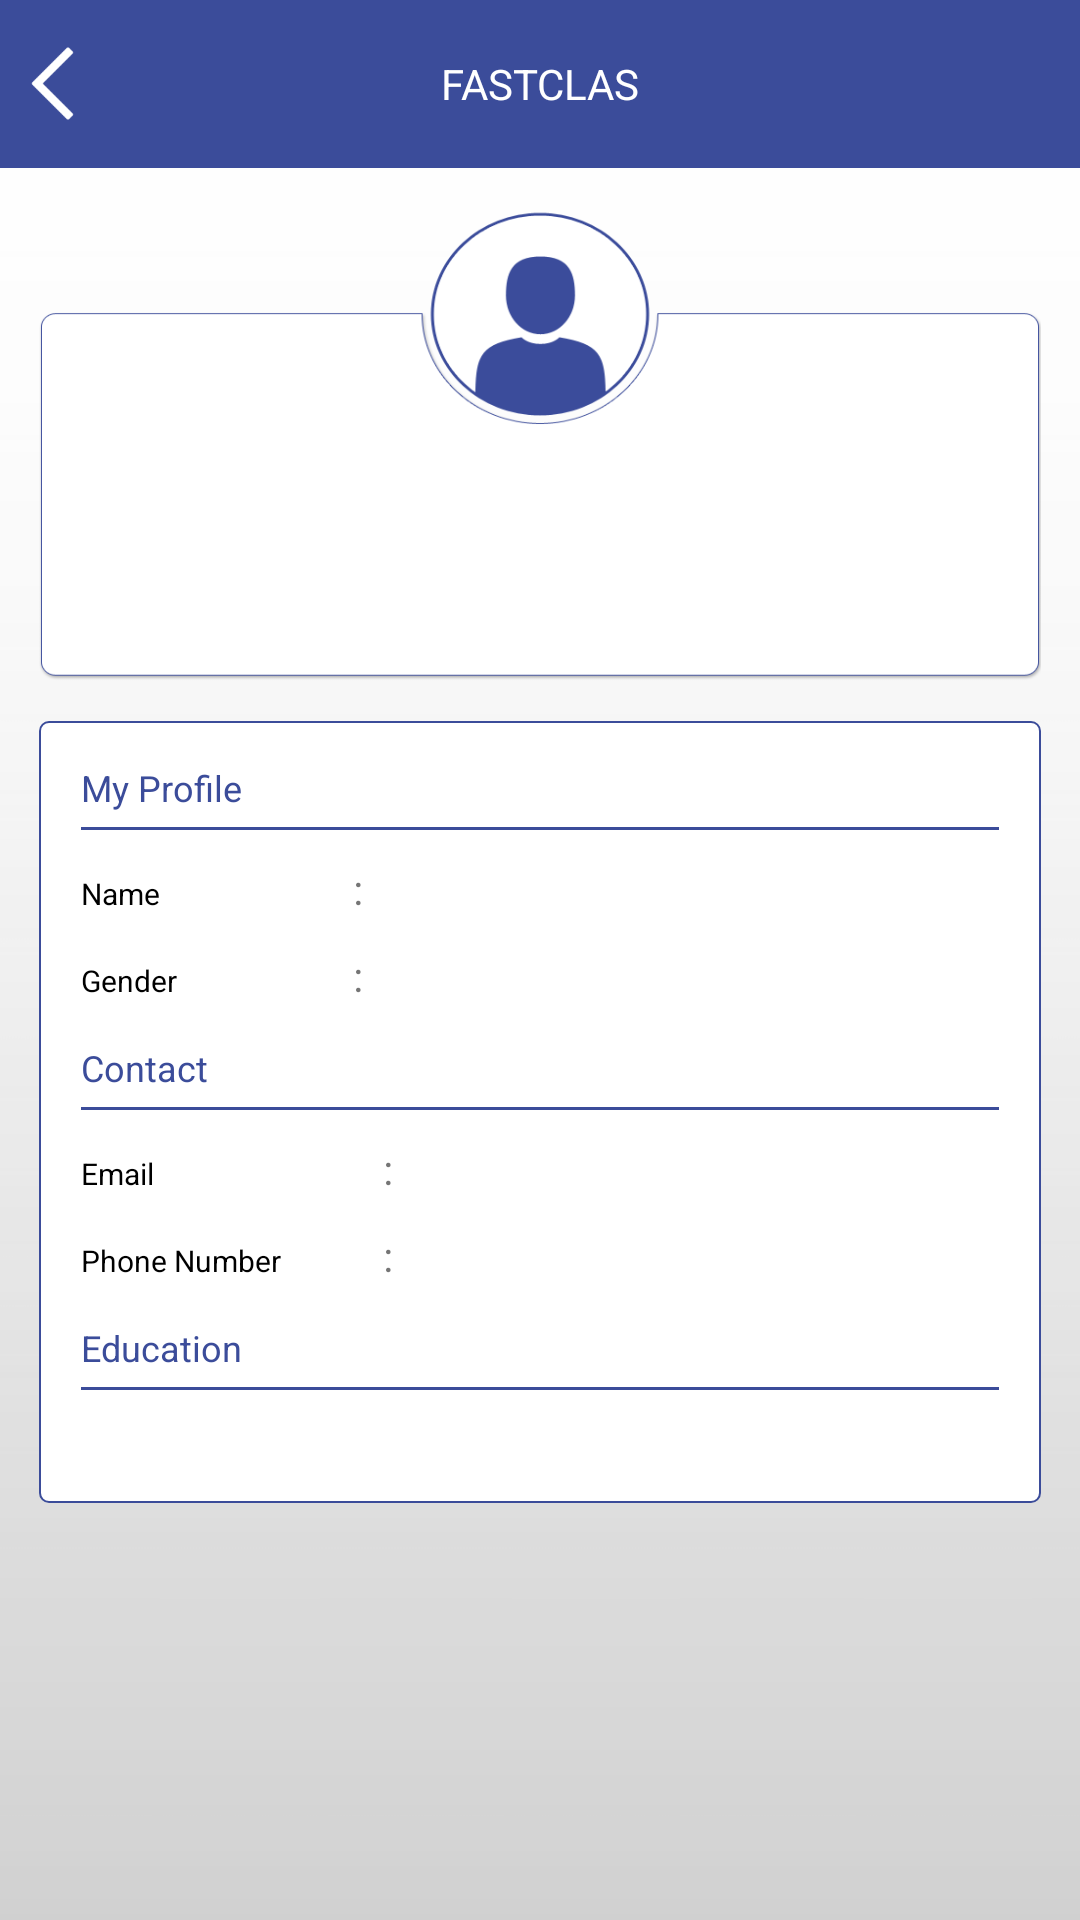

Icon click points for this 1080px×1920px phone screenshot, format (x=x, y=y):
back: (x=52, y=83)
